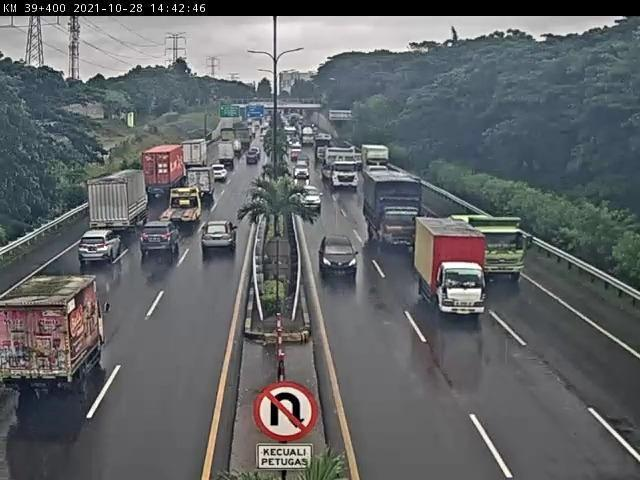car: (319, 236, 360, 284), (79, 229, 124, 265), (201, 221, 242, 258), (141, 220, 182, 255), (303, 192, 328, 223), (292, 164, 315, 183)
truck: (1, 276, 111, 396), (414, 217, 488, 319), (444, 213, 527, 282), (365, 171, 426, 247), (89, 169, 151, 231), (144, 145, 190, 194), (323, 145, 360, 190), (362, 143, 393, 188), (161, 187, 201, 221), (187, 164, 215, 199), (320, 142, 342, 174)
